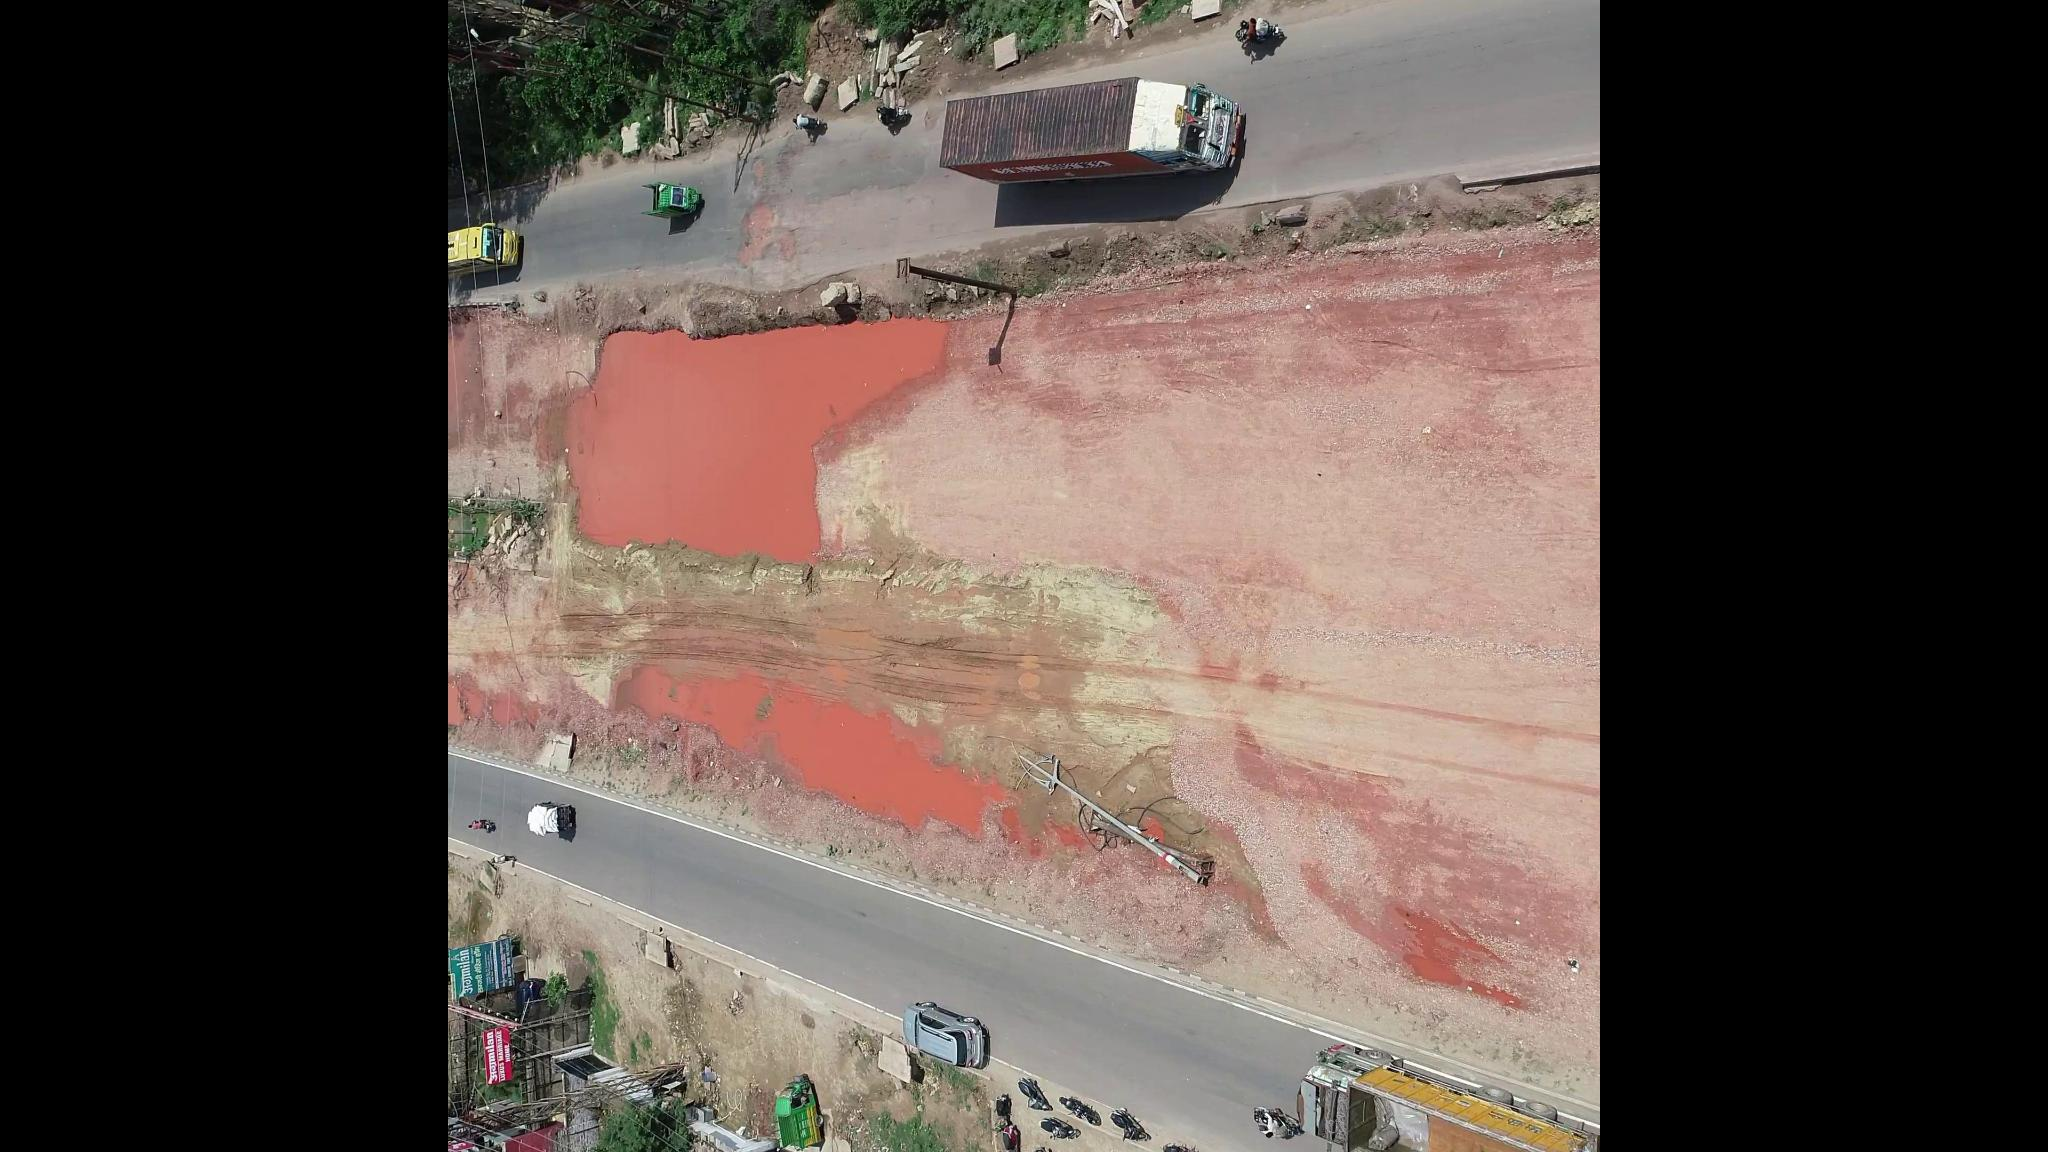Potholes: (716, 153, 800, 271)
